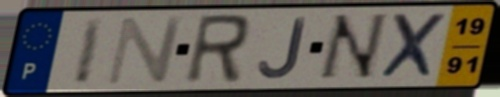I: (69, 15, 108, 87)
J: (256, 16, 309, 81)
N: (103, 14, 188, 87), (312, 11, 392, 84)
R: (180, 12, 253, 87)
X: (376, 11, 450, 82)
